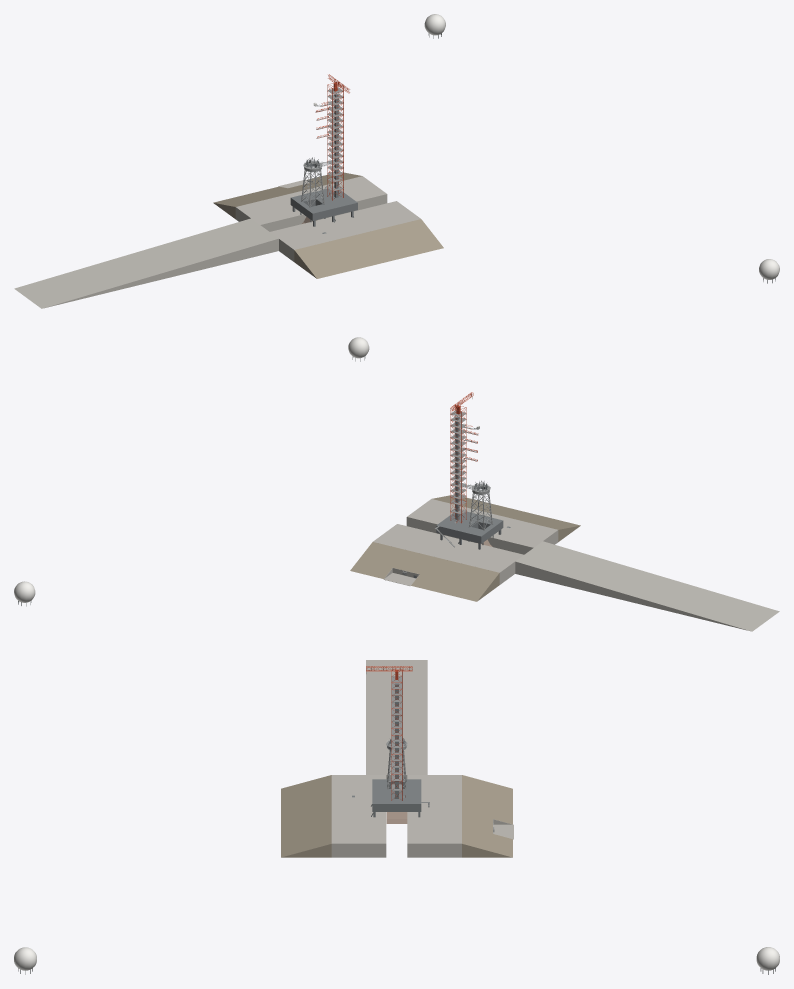
Rendered from pad-b-1973-05.lod2.glb.
3 renders of one model, top to bottom at view 1: azimuth 30°, elevation 25°; view 2: azimuth 150°, elevation 25°; view 3: azimuth 270°, elevation 25°, orthographic. The views are drawn at different scales.
Parts seen in each view (by area): view 1: Hardstand_Concrete, Hardstand_Earth, Launcher_Base_Steel, Umbilical_Tower_Deck, Umbilical_Tower_Red, Storage_Spheres_White; view 2: Hardstand_Concrete, Hardstand_Earth, Launcher_Base_Steel, Umbilical_Tower_Deck, Umbilical_Tower_Red, Storage_Spheres_White; view 3: Hardstand_Concrete, Hardstand_Earth, Launcher_Base_Steel, Umbilical_Tower_Deck, Storage_Spheres_White, Umbilical_Tower_Red.
Part boxes in pixels (x1,y1,x2,y2): Hardstand_Concrete: (14,176,420,308); Hardstand_Earth: (213,172,443,278); Launcher_Base_Steel: (290,189,357,220); Umbilical_Tower_Deck: (327,87,343,191); Umbilical_Tower_Red: (327,82,343,200); Storage_Spheres_White: (424,14,779,279); Hardstand_Concrete: (373,499,779,631); Hardstand_Earth: (350,495,580,601); Launcher_Base_Steel: (436,511,503,543); Umbilical_Tower_Deck: (450,410,466,514); Umbilical_Tower_Red: (450,405,466,523); Storage_Spheres_White: (14,337,369,602); Hardstand_Concrete: (331,660,512,857); Hardstand_Earth: (281,775,512,857); Launcher_Base_Steel: (372,779,421,811); Umbilical_Tower_Deck: (391,676,402,790); Storage_Spheres_White: (14,947,779,970); Umbilical_Tower_Red: (391,669,402,800).
Size of the model in its own units: 630 by 149 by 644.
